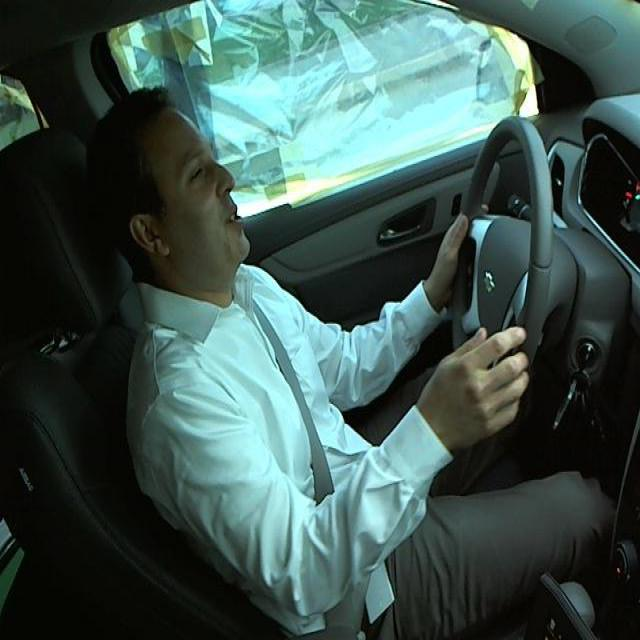seatbelt: (252, 316, 318, 487)
